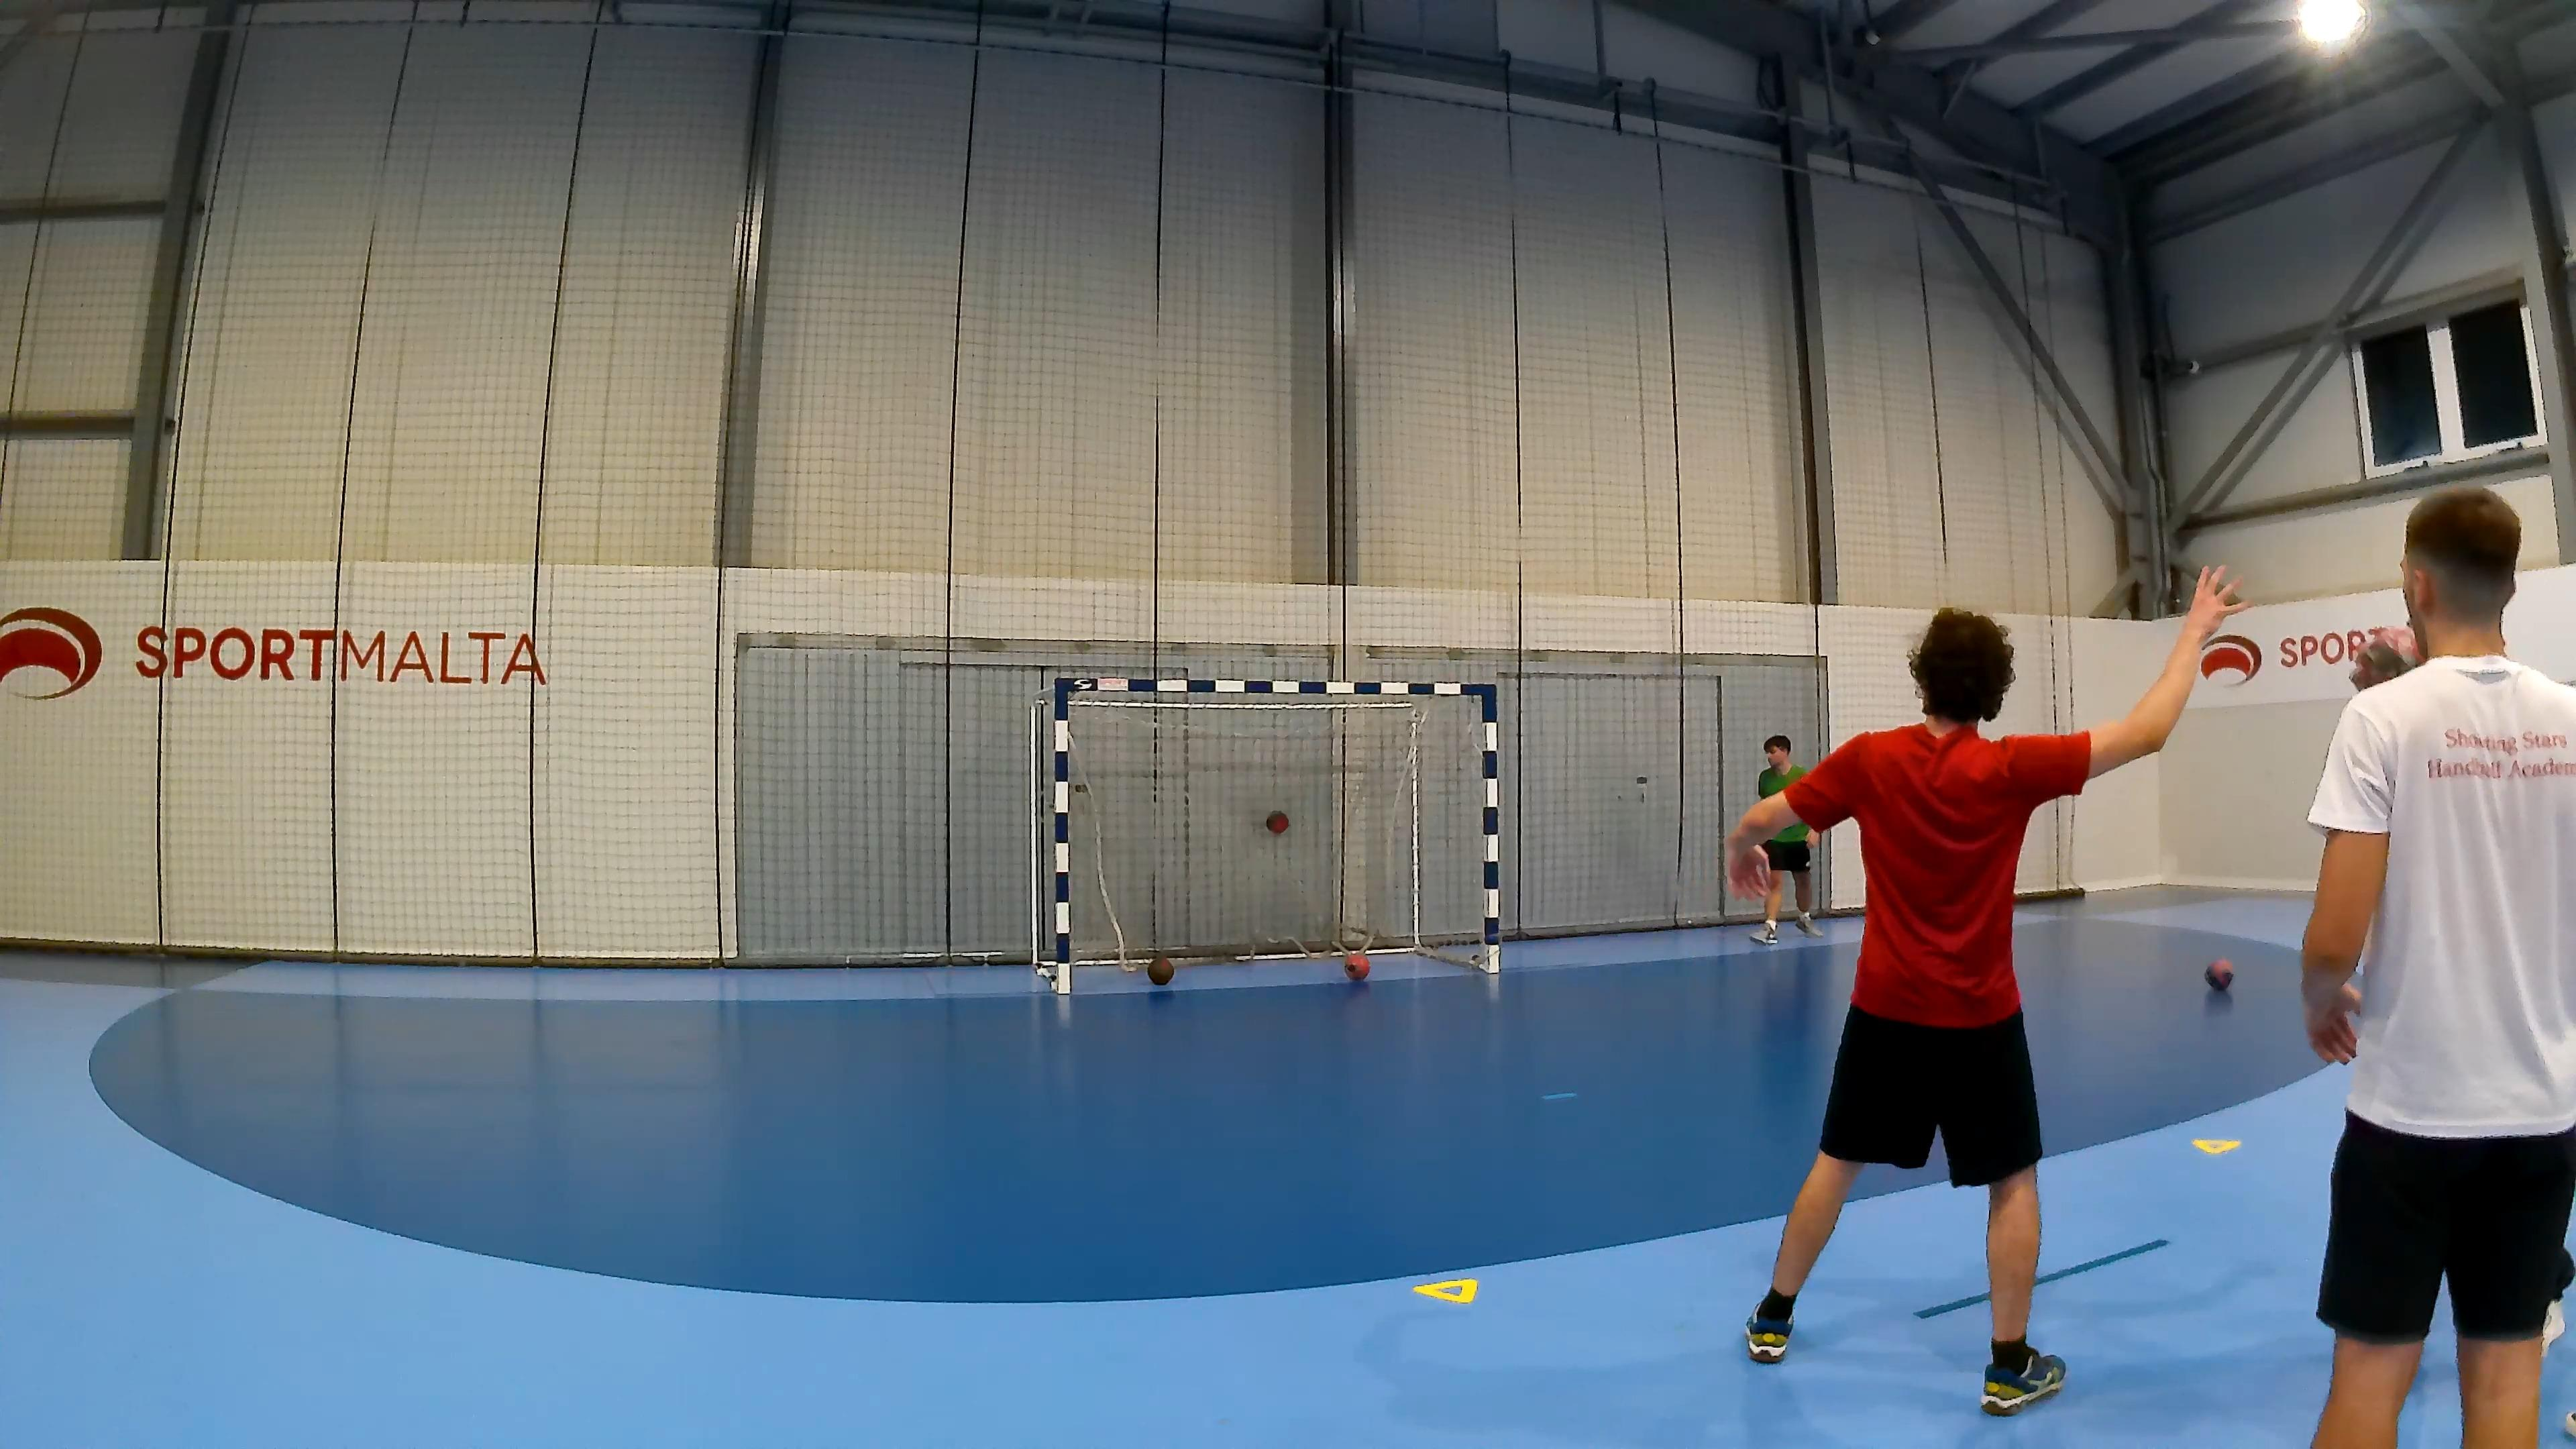handball: (2337, 623, 2424, 697), (2204, 957, 2233, 989), (1146, 955, 1175, 985), (1343, 950, 1369, 980), (1267, 807, 1292, 832)
